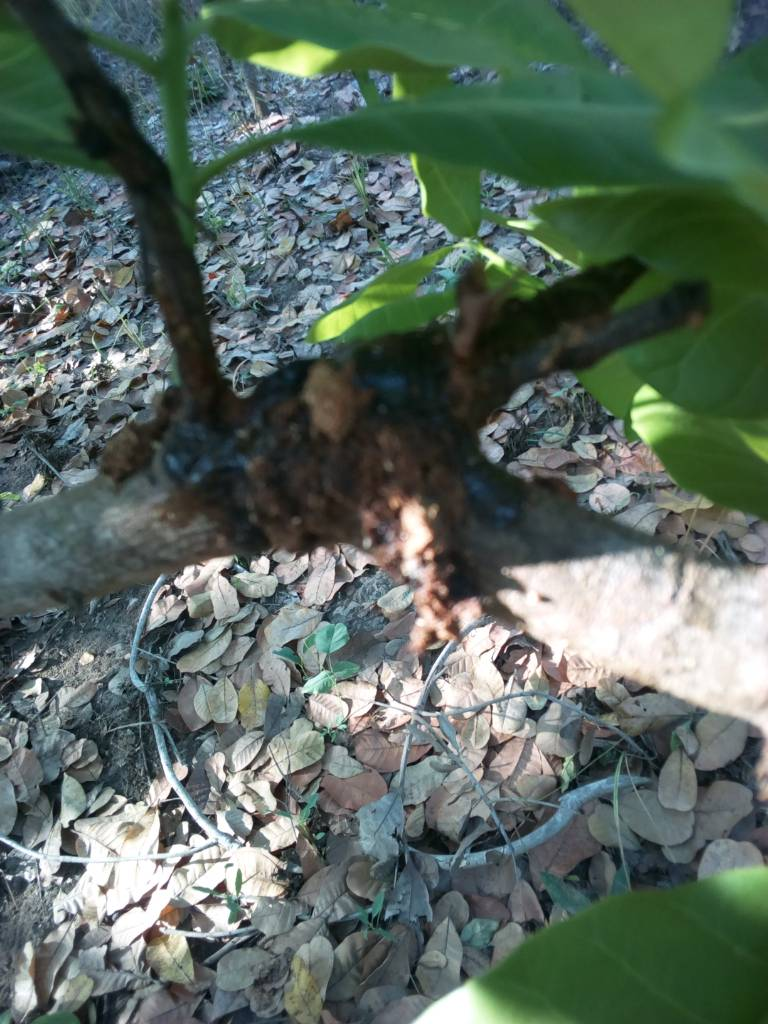Gommose: (154, 350, 521, 630)
